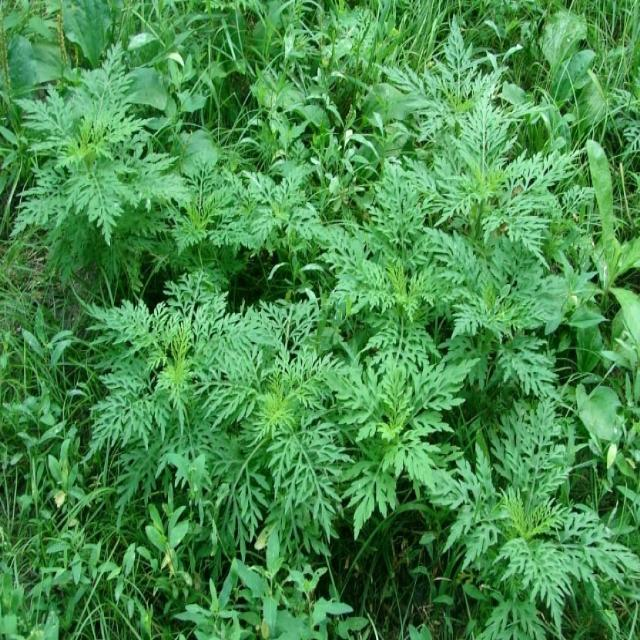ambrosia: (402, 56, 546, 285), (100, 287, 242, 500), (20, 70, 168, 244), (485, 409, 578, 628), (356, 317, 442, 521), (260, 332, 346, 532)
